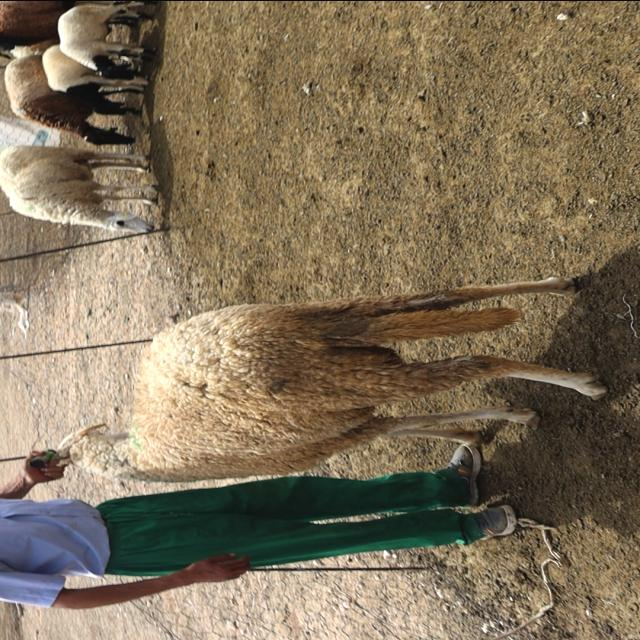Score_2: (63, 276, 607, 482)
